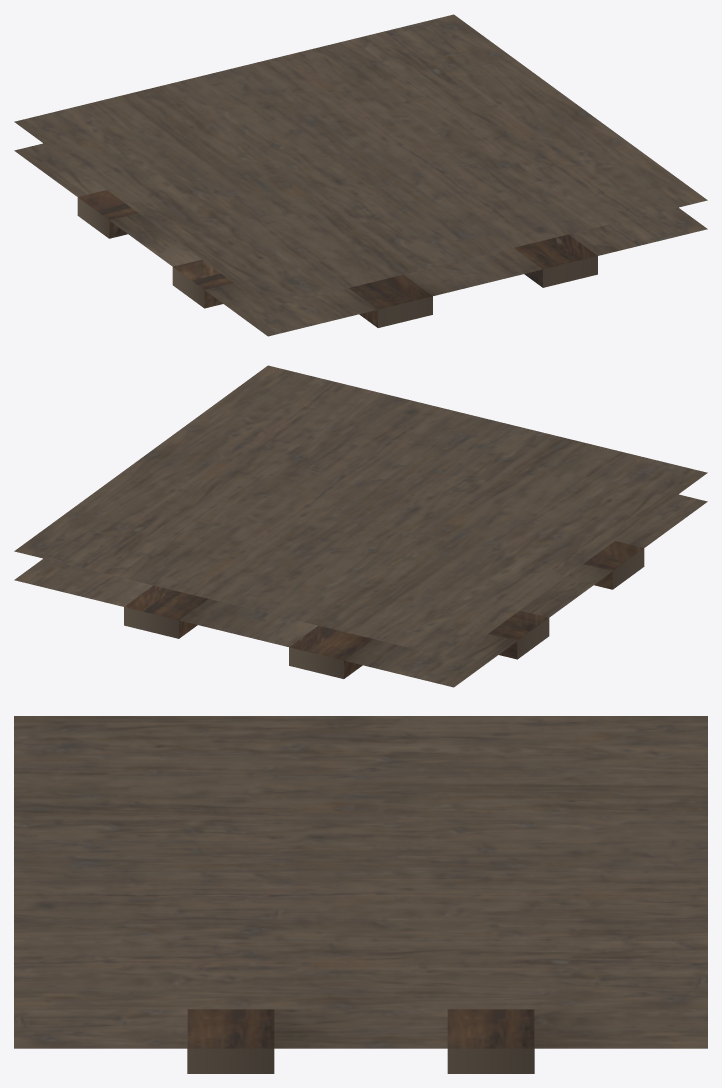
The model's file is floor_sm_wood.glb.
The picture shows the model from 3 angles, top to bottom: view 1: azimuth 30°, elevation 25°; view 2: azimuth 150°, elevation 25°; view 3: azimuth 270°, elevation 25°; orthographic projection. The views are drawn at different scales.
Visible parts, largest first — view 1: floor_sm_wood; view 2: floor_sm_wood; view 3: floor_sm_wood.
Boxes of the visible parts, x1,y1,x2,y2 form: floor_sm_wood: (14, 14, 707, 336); floor_sm_wood: (14, 365, 707, 687); floor_sm_wood: (14, 716, 707, 1073).
Bounding box in the file's own units: 8 × 0.8221 × 8.
Materials: 2 (2 with a texture image).
